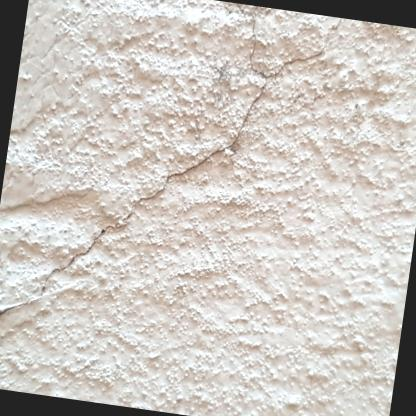crack: (0, 1, 345, 321)
